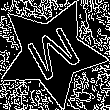M_SE: (19, 20, 84, 86)
